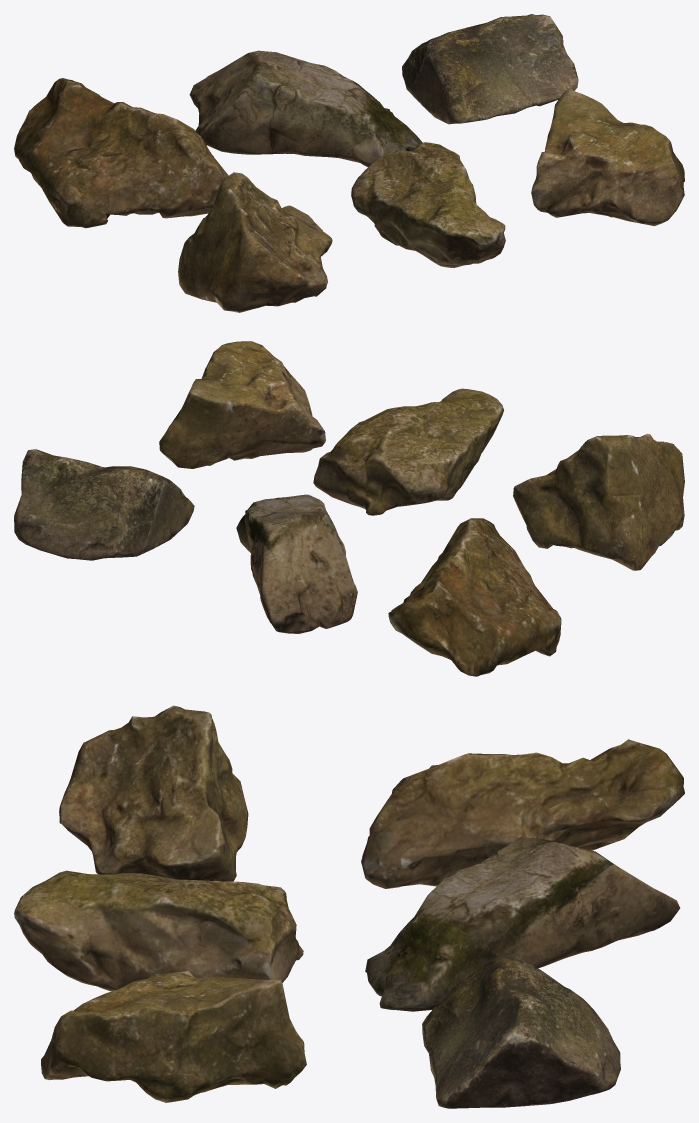
The model's file is rock_moss_set_01_lo.glb.
3 views of the same model, one above another, from view 1: azimuth 30°, elevation 25°; view 2: azimuth 150°, elevation 25°; view 3: azimuth 270°, elevation 25° (orthographic). The views are drawn at different scales.
Parts seen in each view (by area): view 1: rock_moss_set_01_rock01, rock_moss_set_01_rock02, rock_moss_set_01_rock06, rock_moss_set_01_rock04, rock_moss_set_01_rock03, rock_moss_set_01_rock05; view 2: rock_moss_set_01_rock04, rock_moss_set_01_rock01, rock_moss_set_01_rock05, rock_moss_set_01_rock03, rock_moss_set_01_rock06, rock_moss_set_01_rock02; view 3: rock_moss_set_01_rock01, rock_moss_set_01_rock02, rock_moss_set_01_rock05, rock_moss_set_01_rock04, rock_moss_set_01_rock06, rock_moss_set_01_rock03.
Boxes of the visible parts, <box> form: rock_moss_set_01_rock01: <box>14,78,228,228</box>; rock_moss_set_01_rock02: <box>189,50,422,166</box>; rock_moss_set_01_rock06: <box>531,88,684,226</box>; rock_moss_set_01_rock04: <box>178,172,332,312</box>; rock_moss_set_01_rock03: <box>402,14,578,124</box>; rock_moss_set_01_rock05: <box>351,142,505,267</box>; rock_moss_set_01_rock04: <box>513,433,684,570</box>; rock_moss_set_01_rock01: <box>388,518,561,676</box>; rock_moss_set_01_rock05: <box>313,388,503,515</box>; rock_moss_set_01_rock03: <box>14,449,194,560</box>; rock_moss_set_01_rock06: <box>159,341,325,468</box>; rock_moss_set_01_rock02: <box>236,494,357,633</box>; rock_moss_set_01_rock01: <box>361,739,684,888</box>; rock_moss_set_01_rock02: <box>365,836,680,1011</box>; rock_moss_set_01_rock05: <box>14,870,303,991</box>; rock_moss_set_01_rock04: <box>59,705,248,881</box>; rock_moss_set_01_rock06: <box>41,970,306,1102</box>; rock_moss_set_01_rock03: <box>422,957,620,1108</box>.
Size of the model in its own units: 7.98 by 1.75 by 6.92.
Materials: 1 (1 with a texture image).
